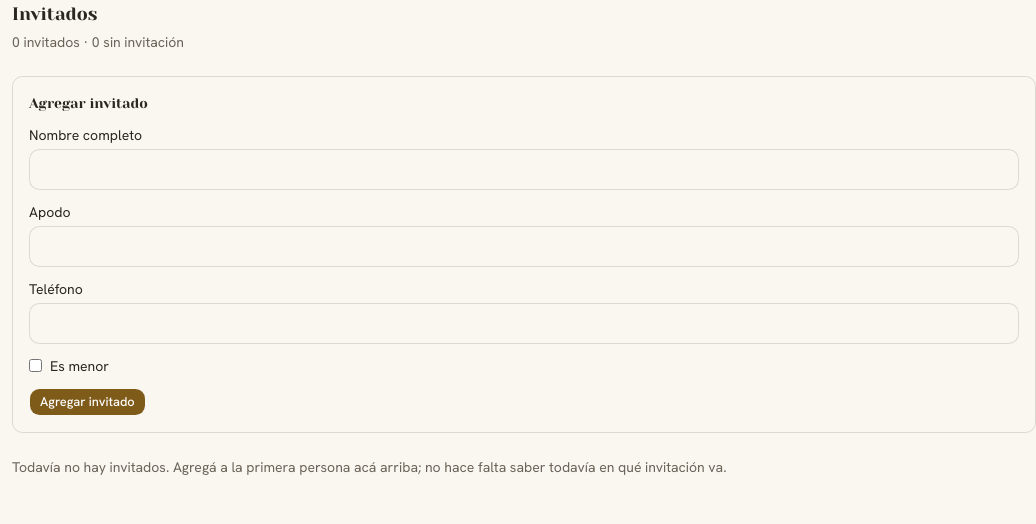
it: GuestDirectory › shows the server's refusal in words the operator can act on
Click the button "Agregar invitado": (87, 402) [29,388,146,416]
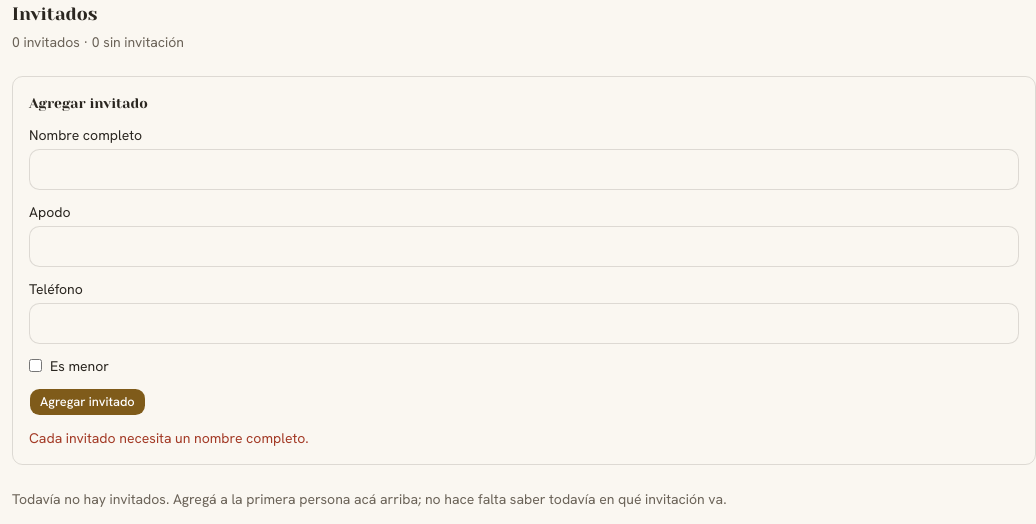
expect the text "Cada invitado necesita un nombre completo." is shown: met, box [29,428,309,446]
